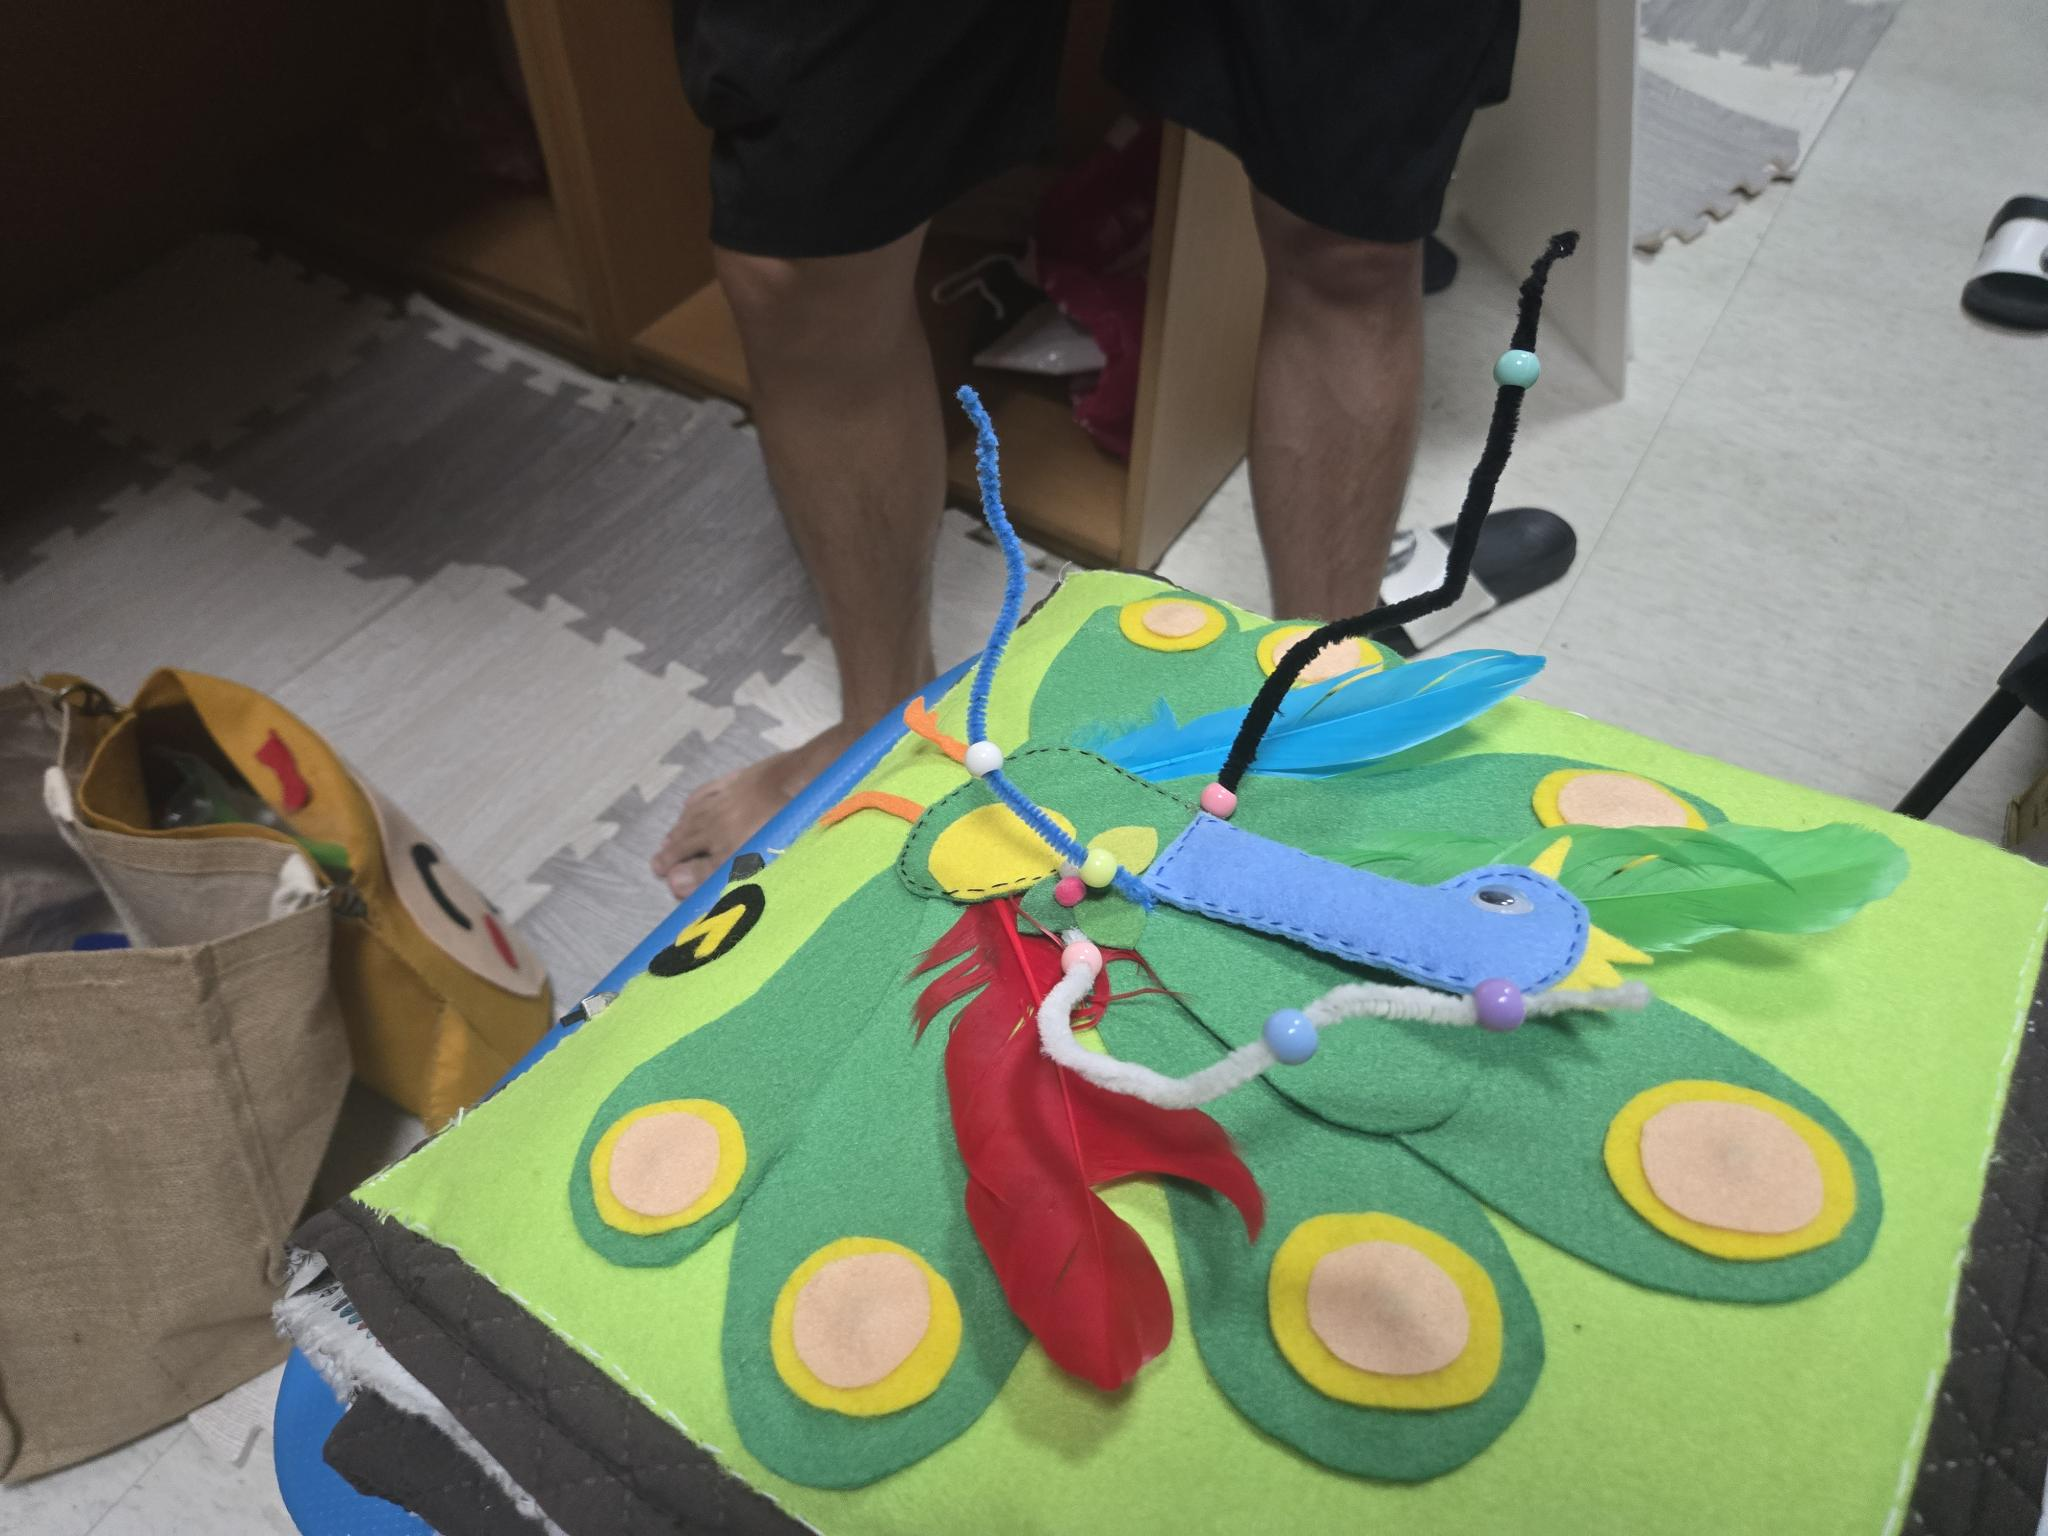bead: (1476, 975, 1534, 1049), (1495, 344, 1550, 395), (1055, 933, 1109, 979), (1080, 841, 1124, 892), (958, 737, 1008, 776), (1276, 1015, 1313, 1066), (1198, 779, 1240, 812)
